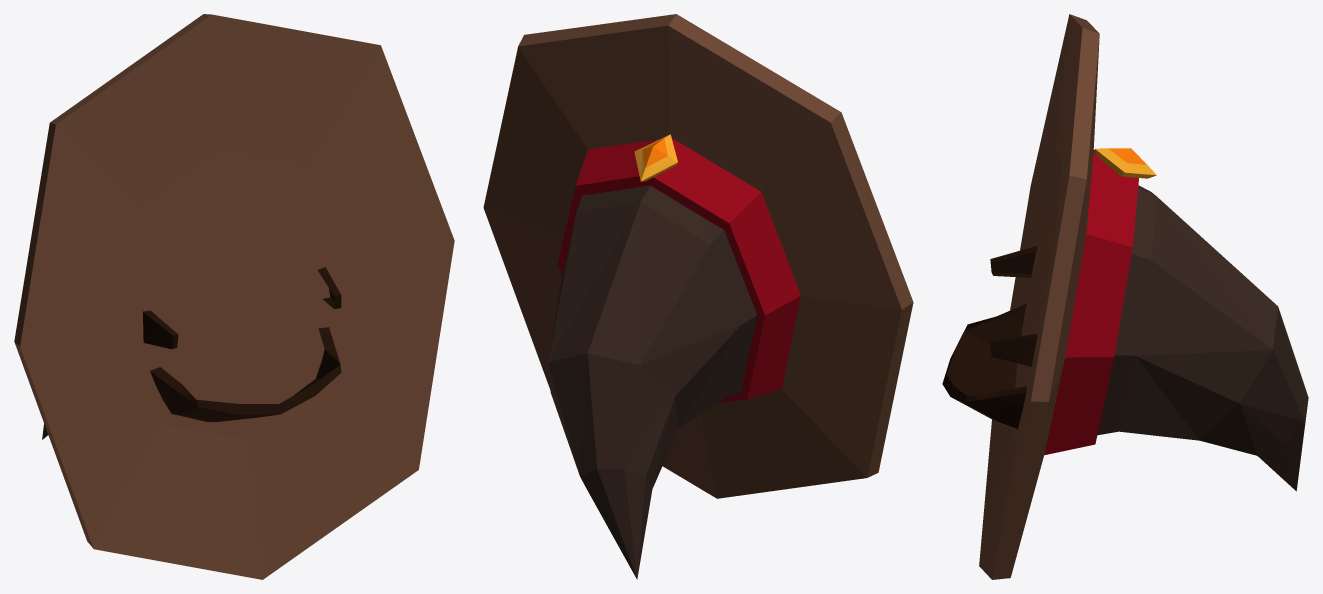
The model's file is Hat 04.FBX.
The picture shows the model from 3 angles, left to right: view 1: azimuth 30°, elevation 25°; view 2: azimuth 150°, elevation 25°; view 3: azimuth 270°, elevation 25°; orthographic projection. The views are drawn at different scales.
Parts seen in each view (by area): view 1: Hat 04, Hair Headgear; view 2: Hat 04; view 3: Hat 04, Hair Headgear.
Part boxes in pixels (box(x1,y1,x2,y2)): Hat 04: box(14, 14, 454, 579); Hair Headgear: box(143, 267, 341, 421); Hat 04: box(483, 14, 913, 579); Hat 04: box(979, 14, 1308, 579); Hair Headgear: box(942, 246, 1037, 428).
Size of the model in its own units: 70.42 by 50.45 by 81.81.
